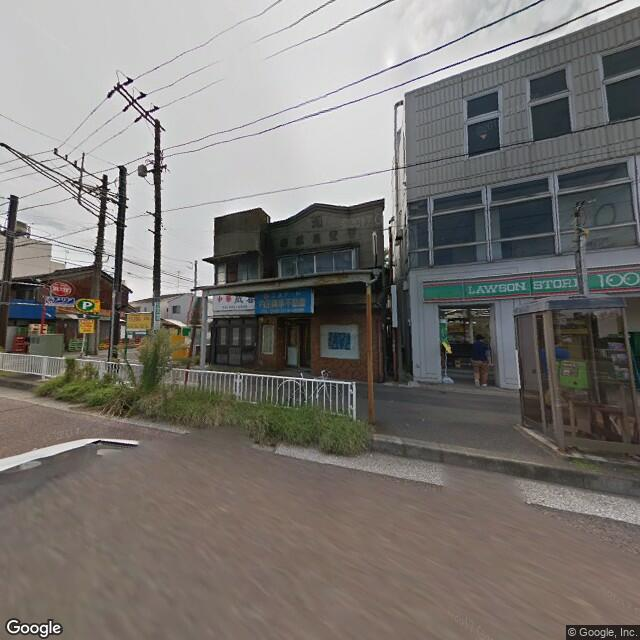lawson: (423, 260, 639, 308)
